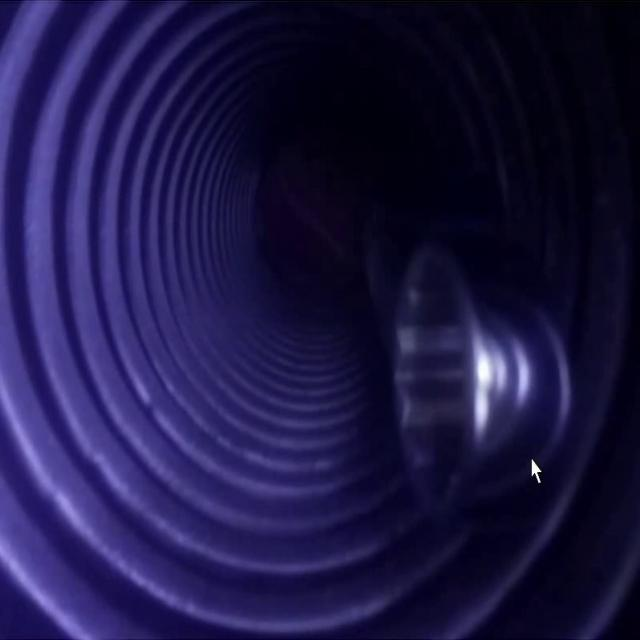metal piece: (381, 208, 574, 528)
